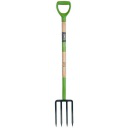fork: (51, 1, 81, 128)
